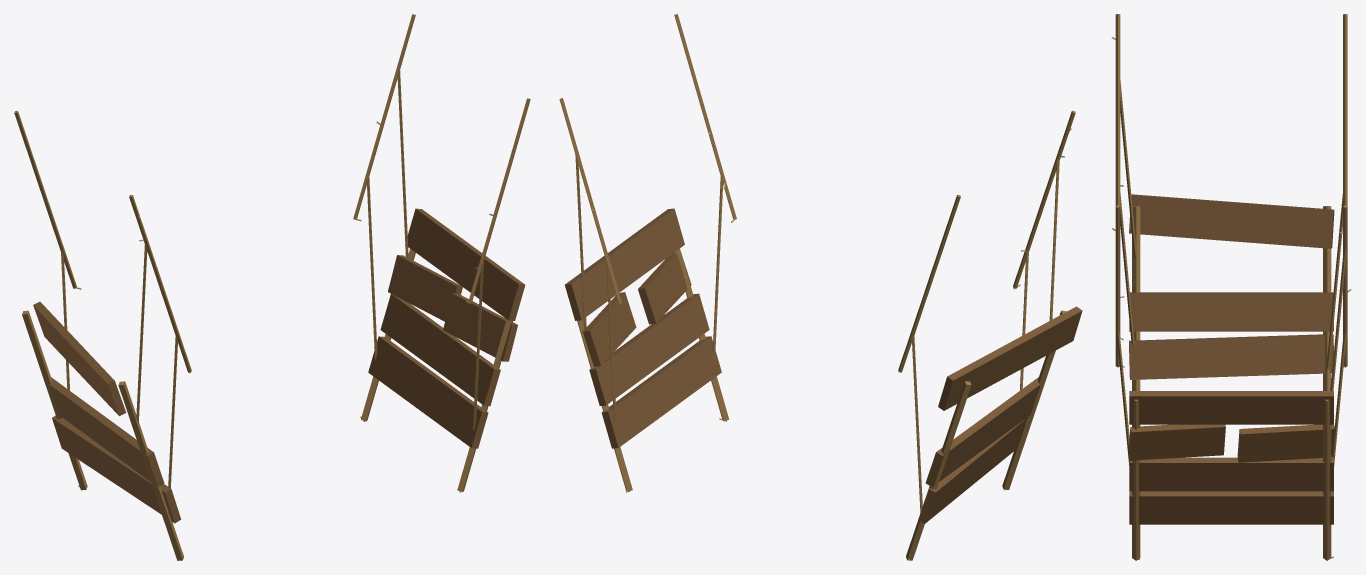
The model's file is Prop_YTM_RopeBridge_Seg_Snapped_LOD1.glb.
3 views of the same model, side by side, from view 1: azimuth 30°, elevation 25°; view 2: azimuth 150°, elevation 25°; view 3: azimuth 270°, elevation 25° (orthographic).
Parts seen in each view (by area): view 1: Prop_YTM_RopeBridge_Seg_Snapped; view 2: Prop_YTM_RopeBridge_Seg_Snapped; view 3: Prop_YTM_RopeBridge_Seg_Snapped.
Part boxes in pixels (x1=…): Prop_YTM_RopeBridge_Seg_Snapped: x1=14, y1=14, x2=530, y2=560; Prop_YTM_RopeBridge_Seg_Snapped: x1=559, y1=14, x2=1082, y2=560; Prop_YTM_RopeBridge_Seg_Snapped: x1=1111, y1=14, x2=1351, y2=560.
Bounding box in the file's own units: 2.1 × 1.86 × 1.06.
